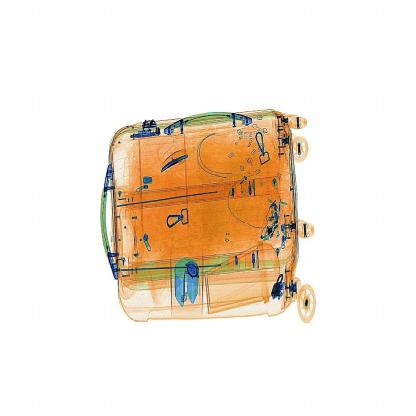pliers: (157, 140, 199, 179)
